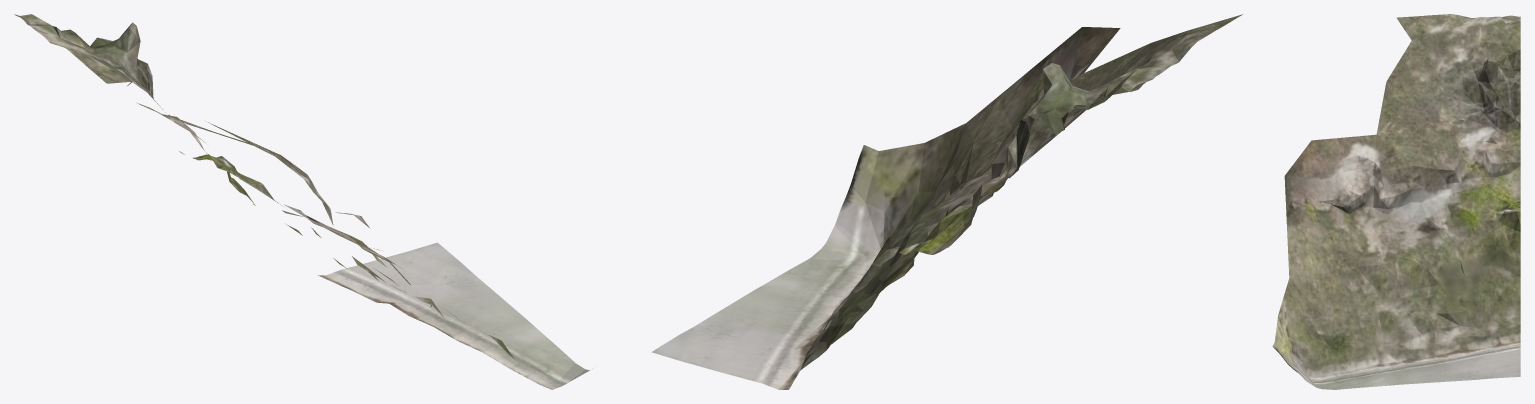
The picture shows the model from 3 angles, left to right: view 1: azimuth 30°, elevation 25°; view 2: azimuth 150°, elevation 25°; view 3: azimuth 270°, elevation 25°; orthographic projection. The views are drawn at different scales.
Size of the model in its own units: 11.8 by 9.55 by 8.94.
Materials: 2 (2 with a texture image).
